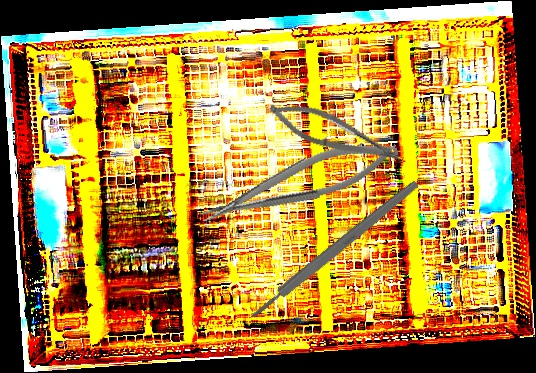Micro Scissor: (264, 94, 408, 171)
Needle Holder: (194, 130, 404, 233)
Scalpel Handle: (248, 178, 421, 321)
